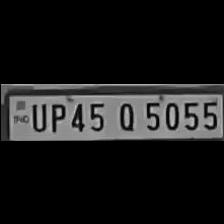0: (162, 97, 180, 128)
4: (66, 99, 86, 131)
5: (84, 97, 106, 130), (140, 98, 162, 130), (179, 97, 199, 128), (200, 97, 218, 128)
P: (45, 98, 65, 132)
Q: (113, 98, 138, 130)
U: (27, 99, 46, 130)
